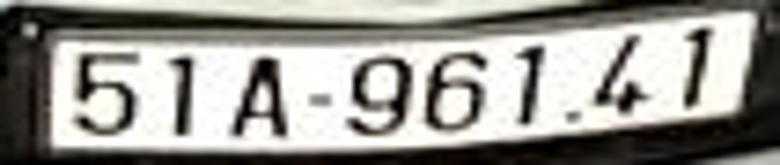-: (305, 93, 332, 107)
.: (564, 110, 581, 126)
1: (509, 47, 544, 128), (680, 29, 713, 106), (169, 56, 193, 136)
4: (592, 37, 650, 116)
5: (79, 52, 136, 135)
6: (424, 54, 487, 132)
9: (344, 56, 410, 138)
A: (230, 54, 290, 137)
